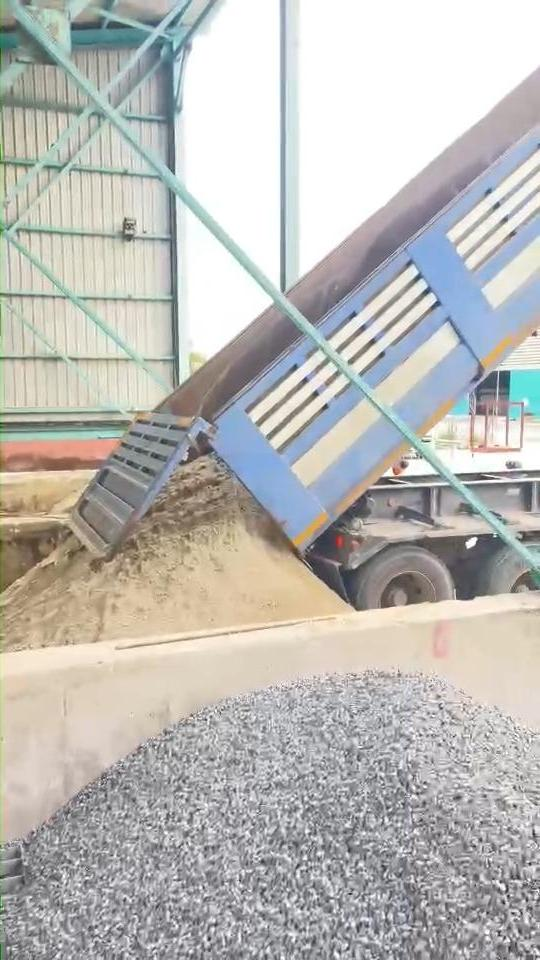gravel: (5, 672, 540, 959)
sand: (3, 457, 346, 649), (1, 471, 91, 517)
